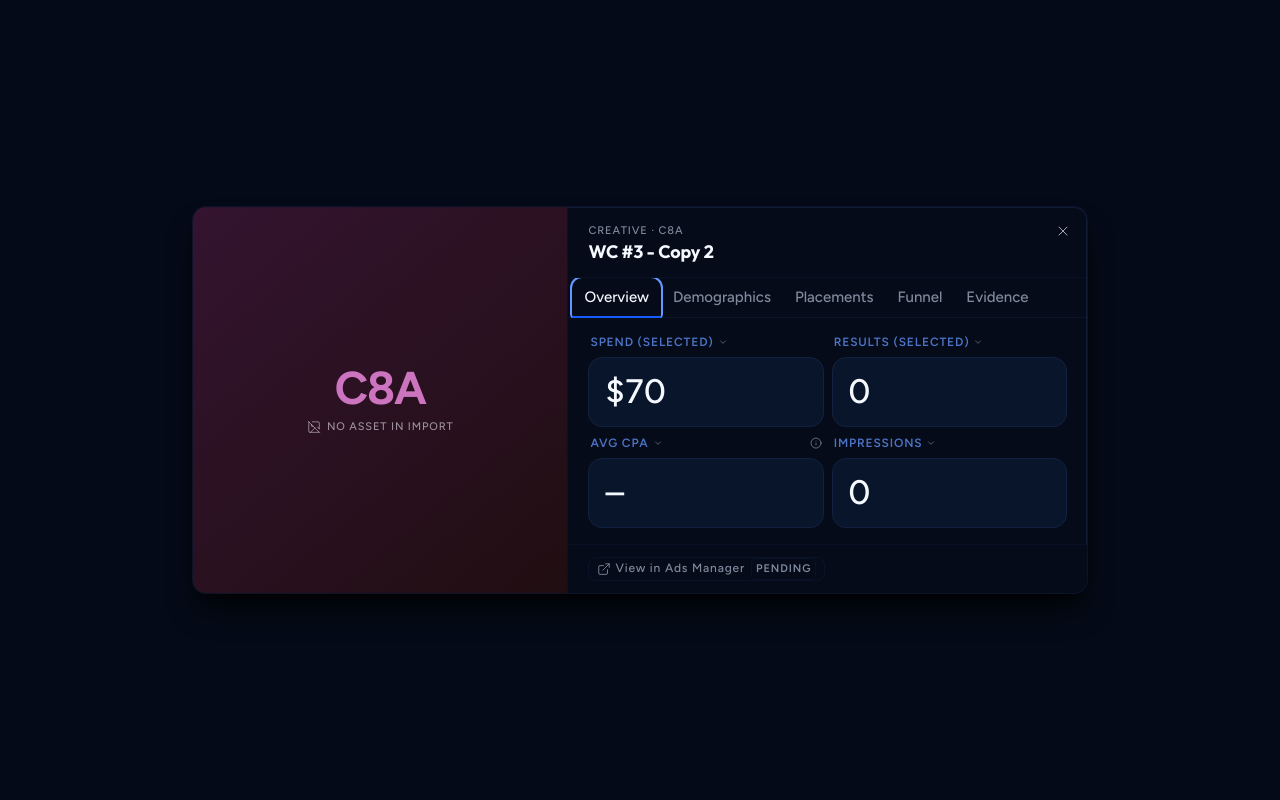
Test: creative dialog joins evidence through mapped Ad IDs › Funnel is built from the Ad Summary truth of the mapped Ad IDs and says so
What coordinates should you click on to do the following:
click the tab "Funnel"
I would click on:
 (920, 298)
Its box is [885,278,954,318].
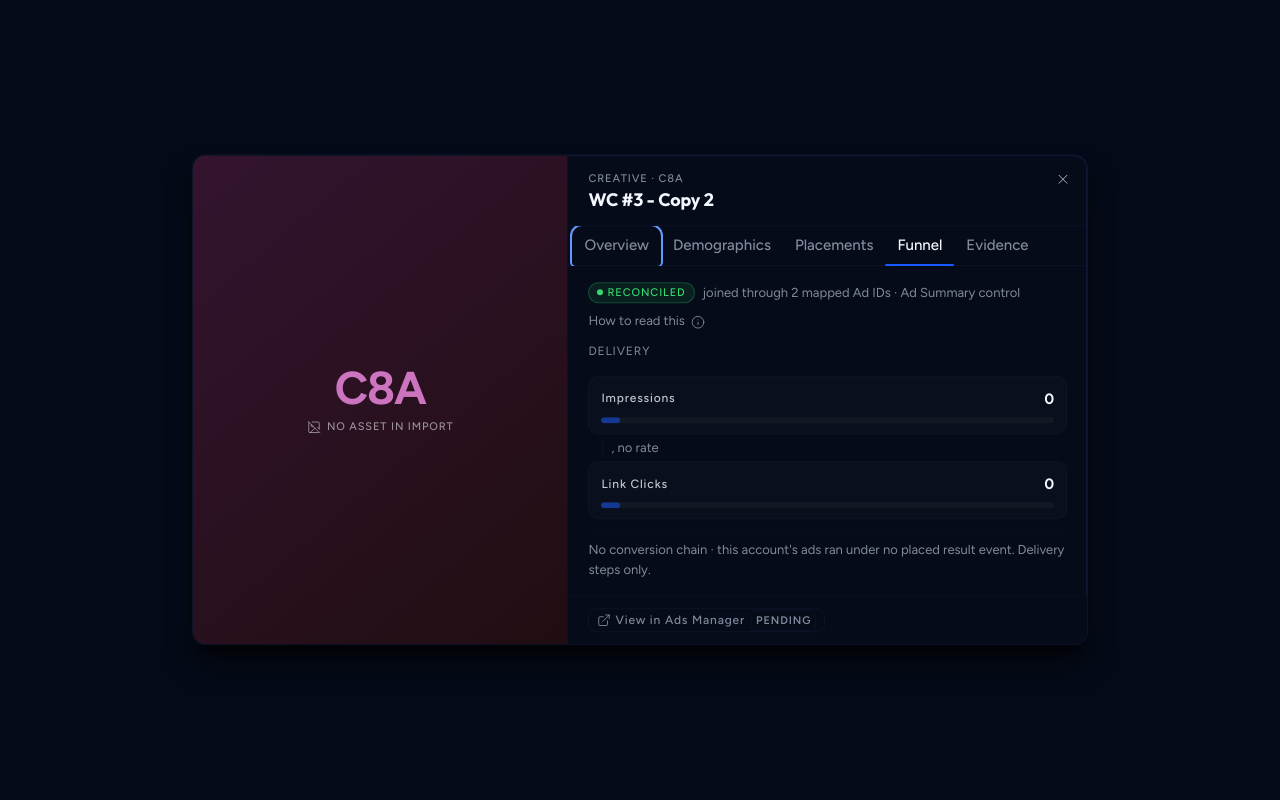
Expected: the element with test id "funnel-evidence" shows "2 mapped Ad IDs", [588,282,1067,331]
